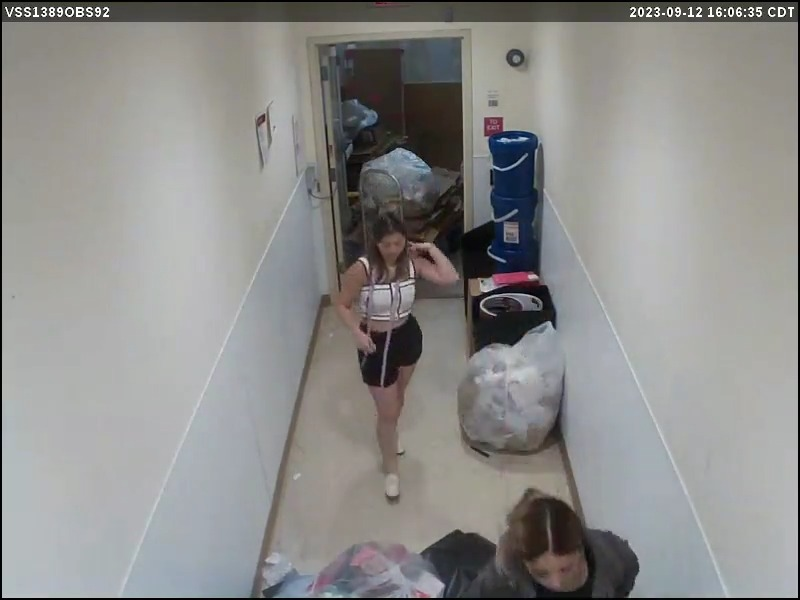No-gloves: (347, 326, 387, 357), (409, 230, 440, 268)
